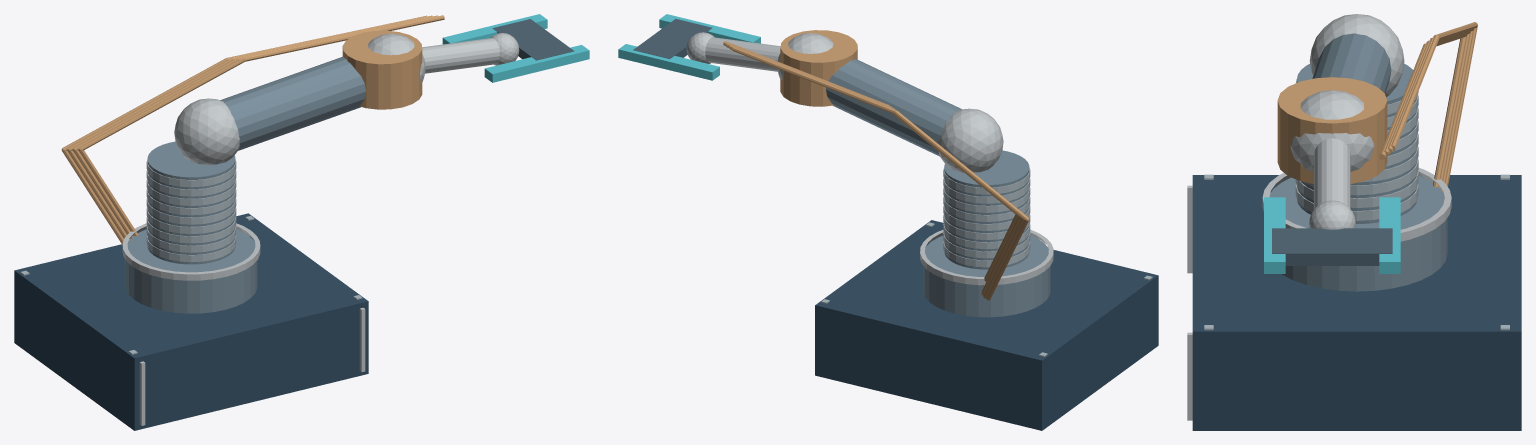
File: 13_L73_AutomatedWaferTransferRobot.glb
3 views of the same model, side by side, from view 1: azimuth 30°, elevation 25°; view 2: azimuth 150°, elevation 25°; view 3: azimuth 270°, elevation 25° (orthographic). The views are drawn at different scales.
Visible parts, largest first — view 1: AutomatedWaferTransferRobot_Node_0000, AutomatedWaferTransferRobot_Node_0019, AutomatedWaferTransferRobot_Node_0007, AutomatedWaferTransferRobot_Node_0022, AutomatedWaferTransferRobot_Node_0009, AutomatedWaferTransferRobot_Node_0020, AutomatedWaferTransferRobot_Node_0023, AutomatedWaferTransferRobot_Node_0008, AutomatedWaferTransferRobot_Node_0028, AutomatedWaferTransferRobot_Node_0027, AutomatedWaferTransferRobot_Node_0046, AutomatedWaferTransferRobot_Node_0021 (+17 smaller); view 2: AutomatedWaferTransferRobot_Node_0000, AutomatedWaferTransferRobot_Node_0019, AutomatedWaferTransferRobot_Node_0007, AutomatedWaferTransferRobot_Node_0022, AutomatedWaferTransferRobot_Node_0009, AutomatedWaferTransferRobot_Node_0020, AutomatedWaferTransferRobot_Node_0023, AutomatedWaferTransferRobot_Node_0028, AutomatedWaferTransferRobot_Node_0008, AutomatedWaferTransferRobot_Node_0026, AutomatedWaferTransferRobot_Node_0031, AutomatedWaferTransferRobot_Node_0030 (+12 smaller); view 3: AutomatedWaferTransferRobot_Node_0000, AutomatedWaferTransferRobot_Node_0007, AutomatedWaferTransferRobot_Node_0022, AutomatedWaferTransferRobot_Node_0028, AutomatedWaferTransferRobot_Node_0021, AutomatedWaferTransferRobot_Node_0019, AutomatedWaferTransferRobot_Node_0020, AutomatedWaferTransferRobot_Node_0023, AutomatedWaferTransferRobot_Node_0009, AutomatedWaferTransferRobot_Node_0008, AutomatedWaferTransferRobot_Node_0026, AutomatedWaferTransferRobot_Node_0027 (+16 smaller).
Part boxes in pixels (x1,y1,x2,y2): AutomatedWaferTransferRobot_Node_0000: [14, 213, 368, 430]; AutomatedWaferTransferRobot_Node_0019: [220, 56, 365, 150]; AutomatedWaferTransferRobot_Node_0007: [125, 229, 257, 313]; AutomatedWaferTransferRobot_Node_0022: [342, 30, 422, 109]; AutomatedWaferTransferRobot_Node_0009: [147, 141, 235, 264]; AutomatedWaferTransferRobot_Node_0020: [174, 98, 239, 164]; AutomatedWaferTransferRobot_Node_0023: [422, 38, 499, 73]; AutomatedWaferTransferRobot_Node_0008: [122, 223, 260, 280]; AutomatedWaferTransferRobot_Node_0028: [492, 19, 574, 60]; AutomatedWaferTransferRobot_Node_0027: [484, 45, 589, 82]; AutomatedWaferTransferRobot_Node_0046: [244, 15, 444, 61]; AutomatedWaferTransferRobot_Node_0021: [368, 33, 425, 82]; AutomatedWaferTransferRobot_Node_0000: [815, 220, 1158, 430]; AutomatedWaferTransferRobot_Node_0019: [826, 59, 961, 156]; AutomatedWaferTransferRobot_Node_0007: [923, 235, 1050, 317]; AutomatedWaferTransferRobot_Node_0022: [780, 30, 857, 106]; AutomatedWaferTransferRobot_Node_0009: [944, 150, 1029, 269]; AutomatedWaferTransferRobot_Node_0020: [938, 108, 1003, 172]; AutomatedWaferTransferRobot_Node_0023: [705, 37, 780, 71]; AutomatedWaferTransferRobot_Node_0028: [633, 19, 712, 58]; AutomatedWaferTransferRobot_Node_0008: [920, 229, 1053, 285]; AutomatedWaferTransferRobot_Node_0026: [618, 44, 719, 80]; AutomatedWaferTransferRobot_Node_0031: [732, 47, 895, 114]; AutomatedWaferTransferRobot_Node_0030: [895, 111, 1027, 219]; AutomatedWaferTransferRobot_Node_0000: [1192, 175, 1521, 430]; AutomatedWaferTransferRobot_Node_0007: [1269, 176, 1447, 291]; AutomatedWaferTransferRobot_Node_0022: [1277, 77, 1387, 183]; AutomatedWaferTransferRobot_Node_0028: [1272, 228, 1392, 265]; AutomatedWaferTransferRobot_Node_0021: [1290, 90, 1374, 171]; AutomatedWaferTransferRobot_Node_0019: [1312, 33, 1391, 94]; AutomatedWaferTransferRobot_Node_0020: [1309, 14, 1404, 97]; AutomatedWaferTransferRobot_Node_0023: [1314, 138, 1350, 209]; AutomatedWaferTransferRobot_Node_0009: [1296, 63, 1417, 223]; AutomatedWaferTransferRobot_Node_0008: [1262, 168, 1451, 241]; AutomatedWaferTransferRobot_Node_0026: [1379, 197, 1400, 273]; AutomatedWaferTransferRobot_Node_0027: [1264, 197, 1285, 273].
Bounding box in the file's own units: 2.78 × 1.55 × 1.22.
